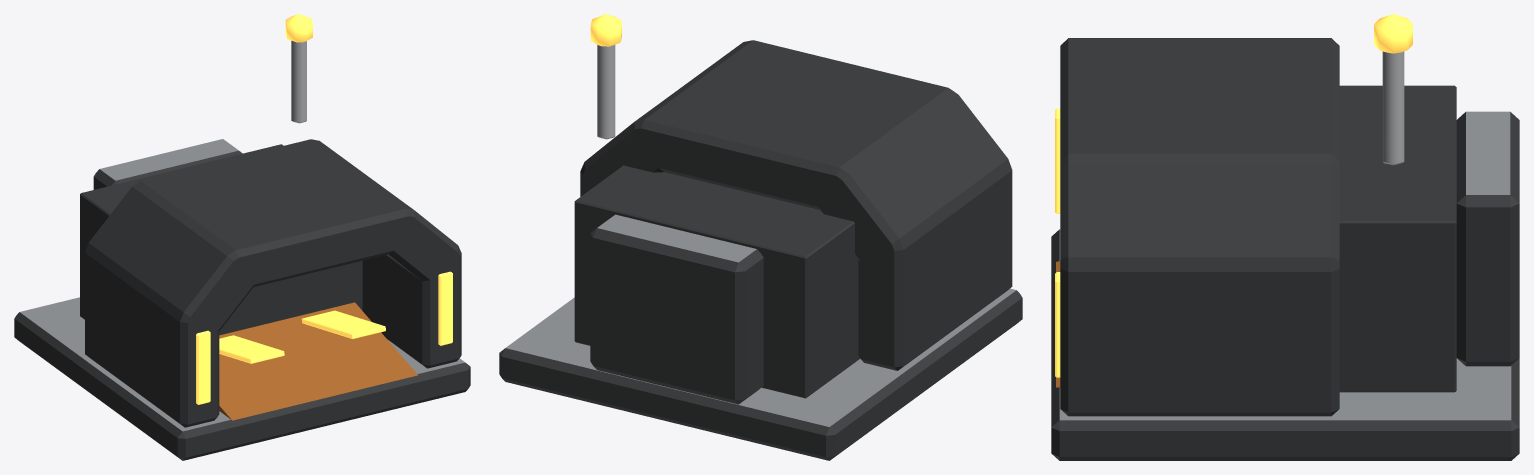
File: R4X_GroundDroneDeployer_LOD1.fbx
The picture shows the model from 3 angles, left to right: view 1: azimuth 30°, elevation 25°; view 2: azimuth 150°, elevation 25°; view 3: azimuth 270°, elevation 25°; orthographic projection. The views are drawn at different scales.
Visible parts, largest first — view 1: R4X_GroundDroneDeployer_LOD1; view 2: R4X_GroundDroneDeployer_LOD1; view 3: R4X_GroundDroneDeployer_LOD1.
Part boxes in pixels (x1,y1,x2,y2): R4X_GroundDroneDeployer_LOD1: (14,14,470,460); R4X_GroundDroneDeployer_LOD1: (499,14,1022,460); R4X_GroundDroneDeployer_LOD1: (1051,14,1519,460).
Size of the model in its own units: 0.52 by 0.51 by 0.52.
